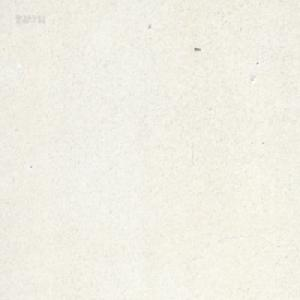Nail: (194, 45, 200, 51)
